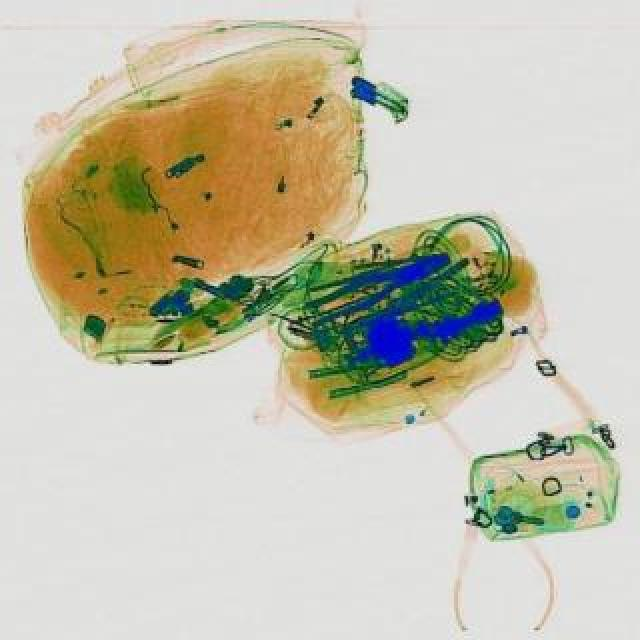wrench: (298, 242, 454, 328)
